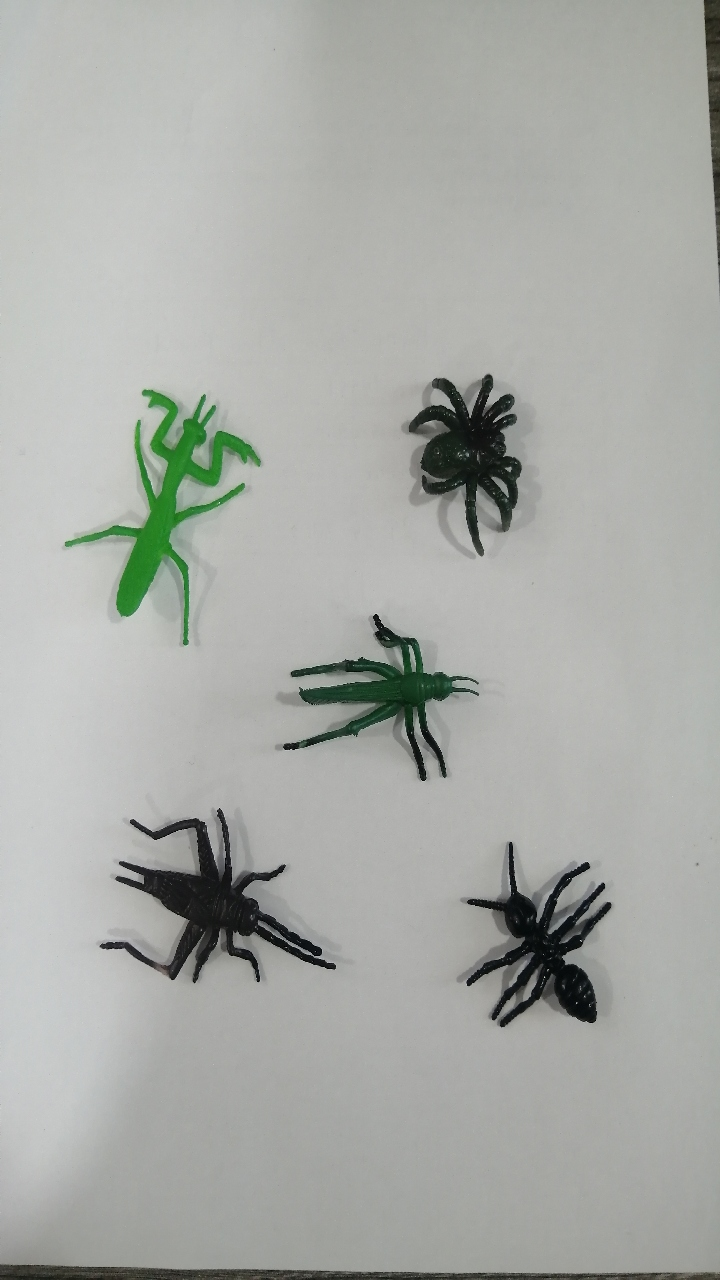intruso: (46, 354, 281, 683), (81, 785, 344, 1031), (429, 817, 626, 1075), (263, 597, 514, 797), (377, 340, 546, 572)
